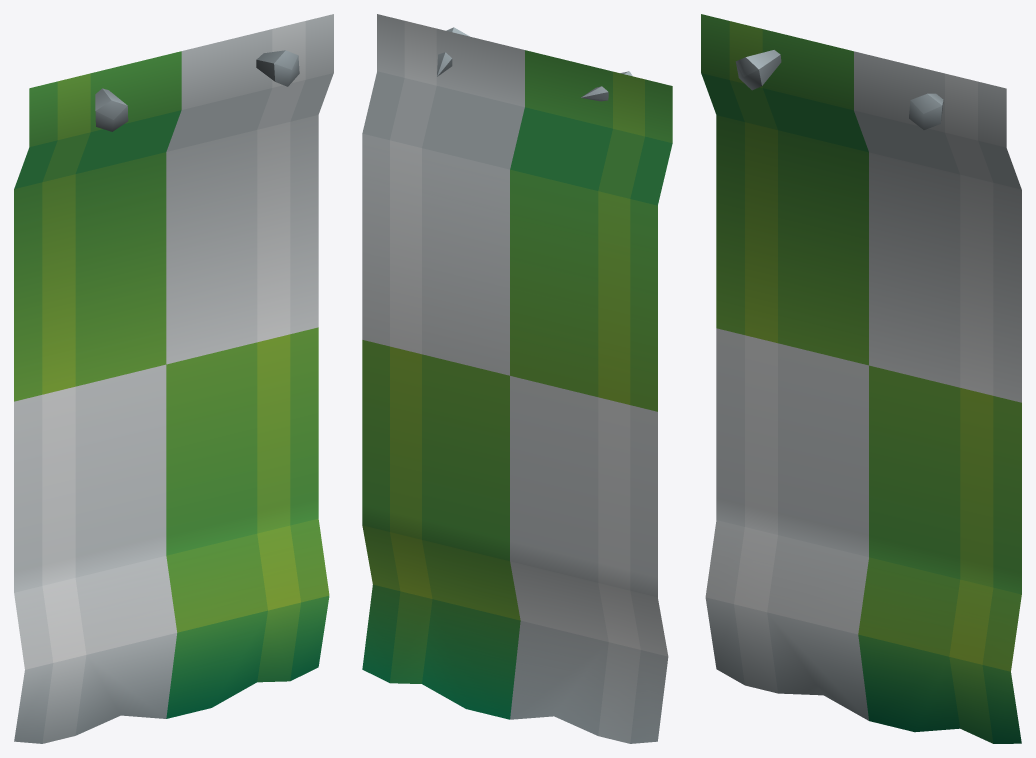
Rendered from banner_patternA_green.gltf.
The picture shows the model from 3 angles, left to right: view 1: azimuth 30°, elevation 25°; view 2: azimuth 150°, elevation 25°; view 3: azimuth 330°, elevation 25°; orthographic projection. The views are drawn at different scales.
Visible parts, largest first — view 1: banner_patternA_green; view 2: banner_patternA_green; view 3: banner_patternA_green.
Boxes of the visible parts, x1,y1,x2,y2 form: banner_patternA_green: (14,14,333,743); banner_patternA_green: (362,14,672,743); banner_patternA_green: (701,14,1021,743).
Size of the model in its own units: 1.5 by 3.2 by 0.3119.
1 material, 1 textured.
